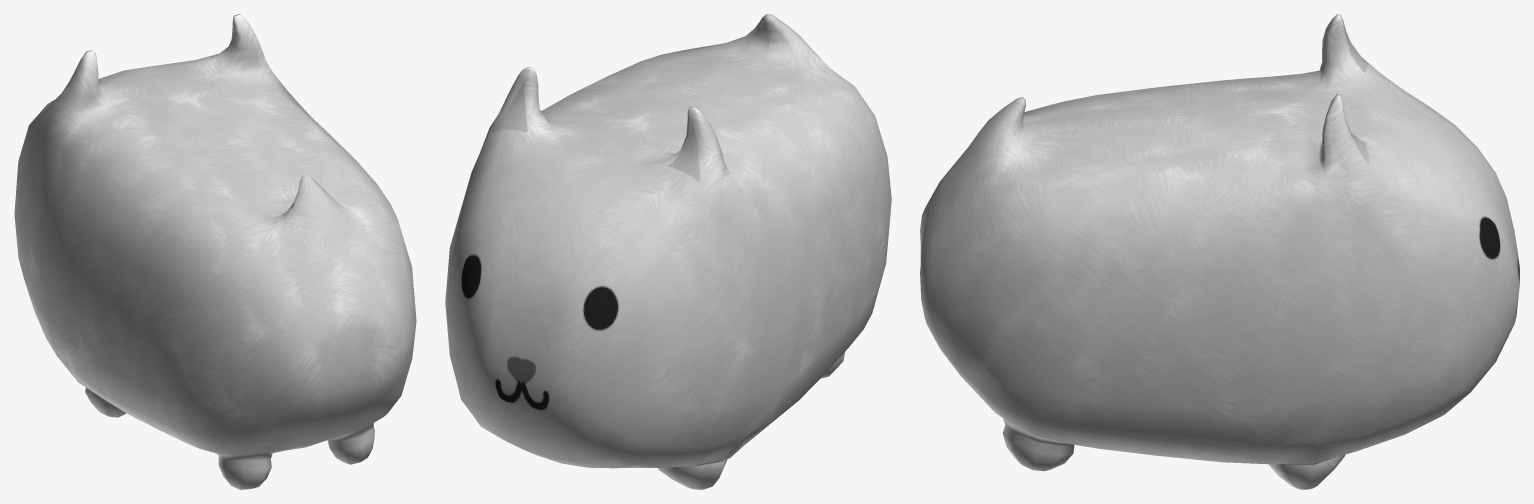
File: potato.gltf
3 views of the same model, side by side, from view 1: azimuth 30°, elevation 25°; view 2: azimuth 150°, elevation 25°; view 3: azimuth 270°, elevation 25° (orthographic). The views are drawn at different scales.
Visible parts, largest first — view 1: UV__Potato_v1A; view 2: UV__Potato_v1A; view 3: UV__Potato_v1A.
Boxes of the visible parts, x1,y1,x2,y2 form: UV__Potato_v1A: [14, 14, 416, 489]; UV__Potato_v1A: [445, 14, 891, 489]; UV__Potato_v1A: [920, 14, 1519, 489].
Size of the model in its own units: 0.9638 by 1.23 by 1.68.
1 material, 1 textured.
